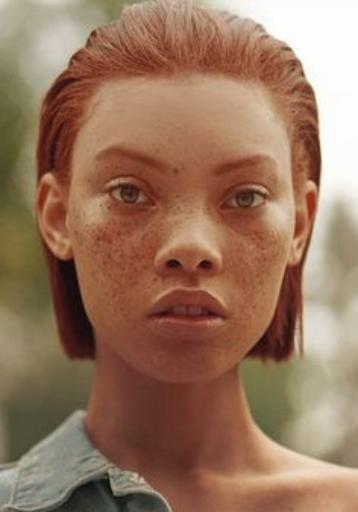left_eye: (220, 187, 272, 214)
left_lip_corner: (219, 308, 232, 327)
right_eye: (106, 182, 158, 210)
right_lip_corner: (144, 308, 157, 326)
